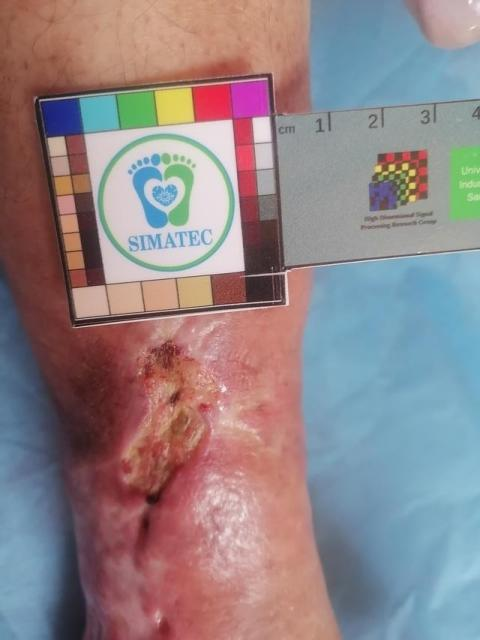wound: (106, 334, 271, 640)
